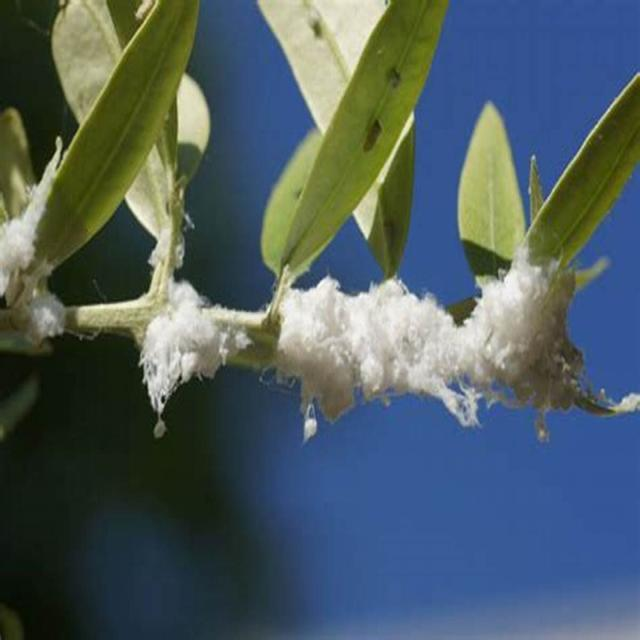Psyllid: (0, 73, 639, 441)
